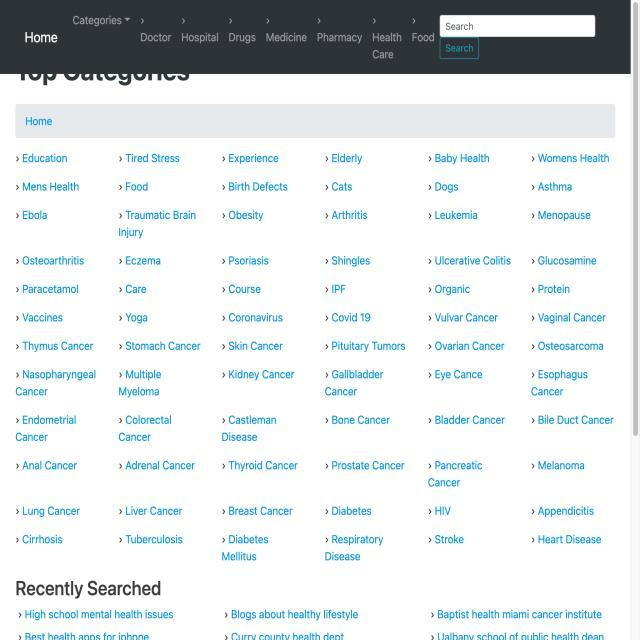breadcrumb: (134, 27, 434, 65)
button: (436, 36, 482, 61)
input field: (436, 11, 596, 38)
